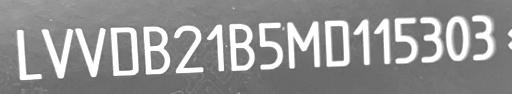letter: (10, 26, 44, 80), (286, 20, 322, 70), (40, 26, 74, 78), (172, 24, 206, 74), (108, 25, 140, 78), (74, 25, 106, 78), (141, 24, 171, 76), (226, 21, 254, 73), (256, 21, 284, 73), (392, 16, 418, 69), (416, 16, 444, 65), (323, 19, 351, 68), (444, 15, 470, 62), (472, 14, 496, 61), (206, 22, 228, 70), (372, 16, 392, 65), (352, 19, 372, 66)
